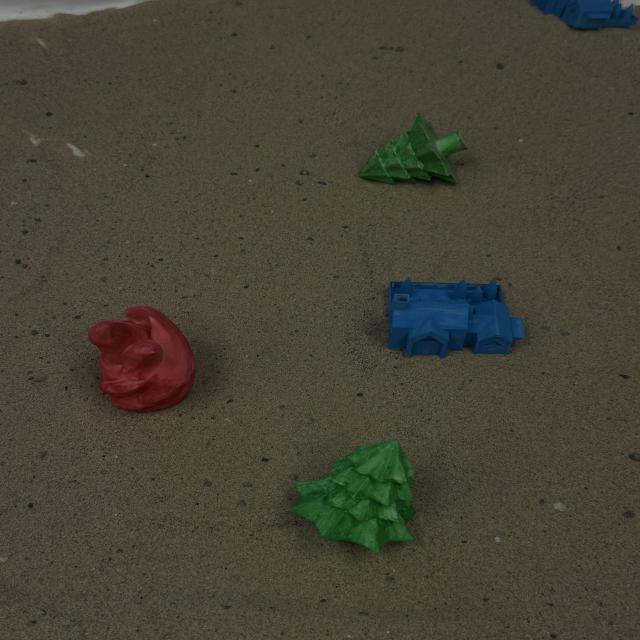fire: (86, 304, 198, 413)
house: (384, 276, 526, 358)
tree: (289, 438, 419, 553), (357, 111, 469, 187)
